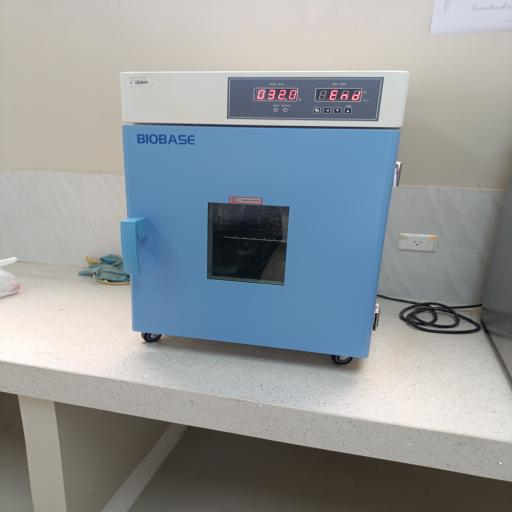Horno_Secado_Biobase: (108, 58, 424, 386)
